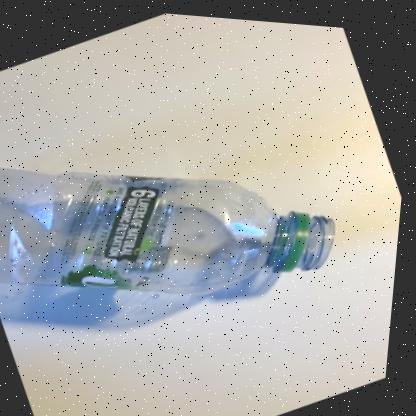Plastic: (0, 168, 339, 298)
